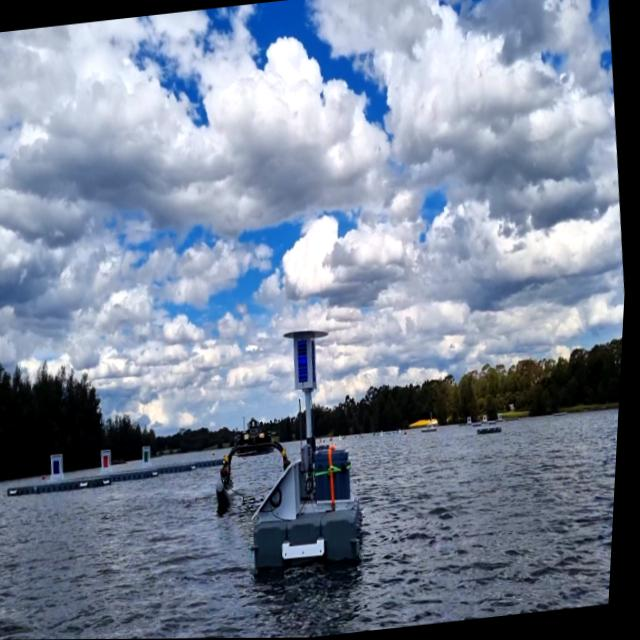led: (297, 339, 317, 388)
